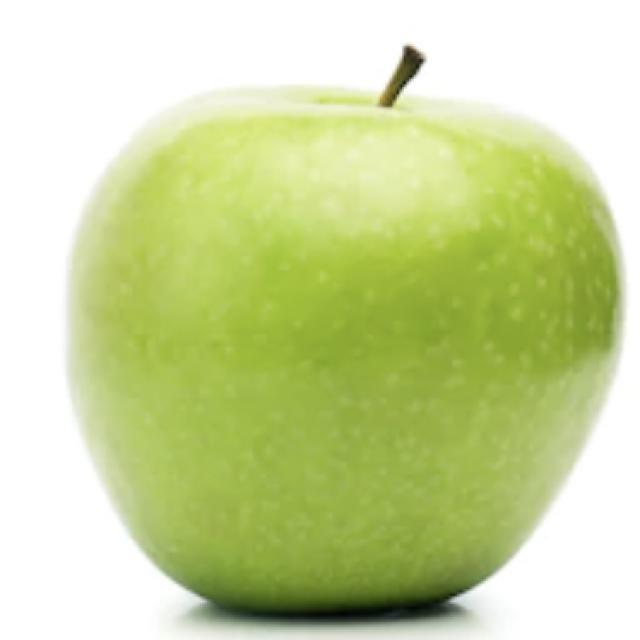Fresh Apple: (75, 110, 622, 607)
